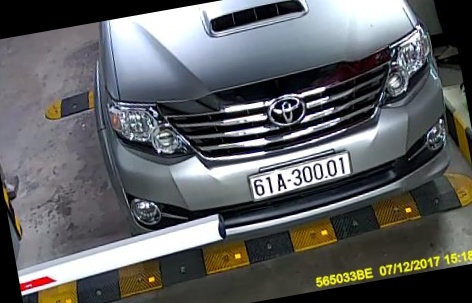plate: (244, 147, 354, 205)
